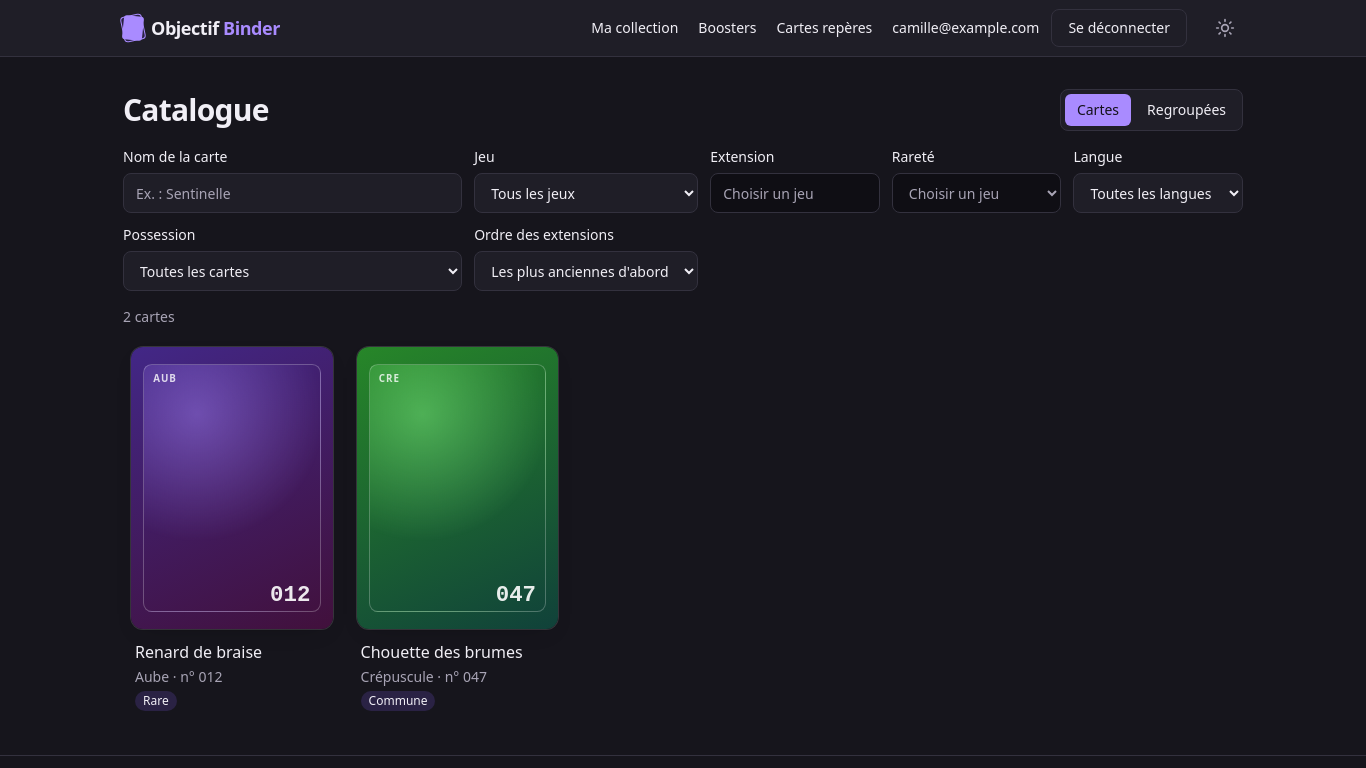
Test: AccountMenu › signs out through the API, then forgets the user and the token
Click the button "Se déconnecter" at [1119, 28], box top-left (1051, 9), bottom-right (1187, 47)
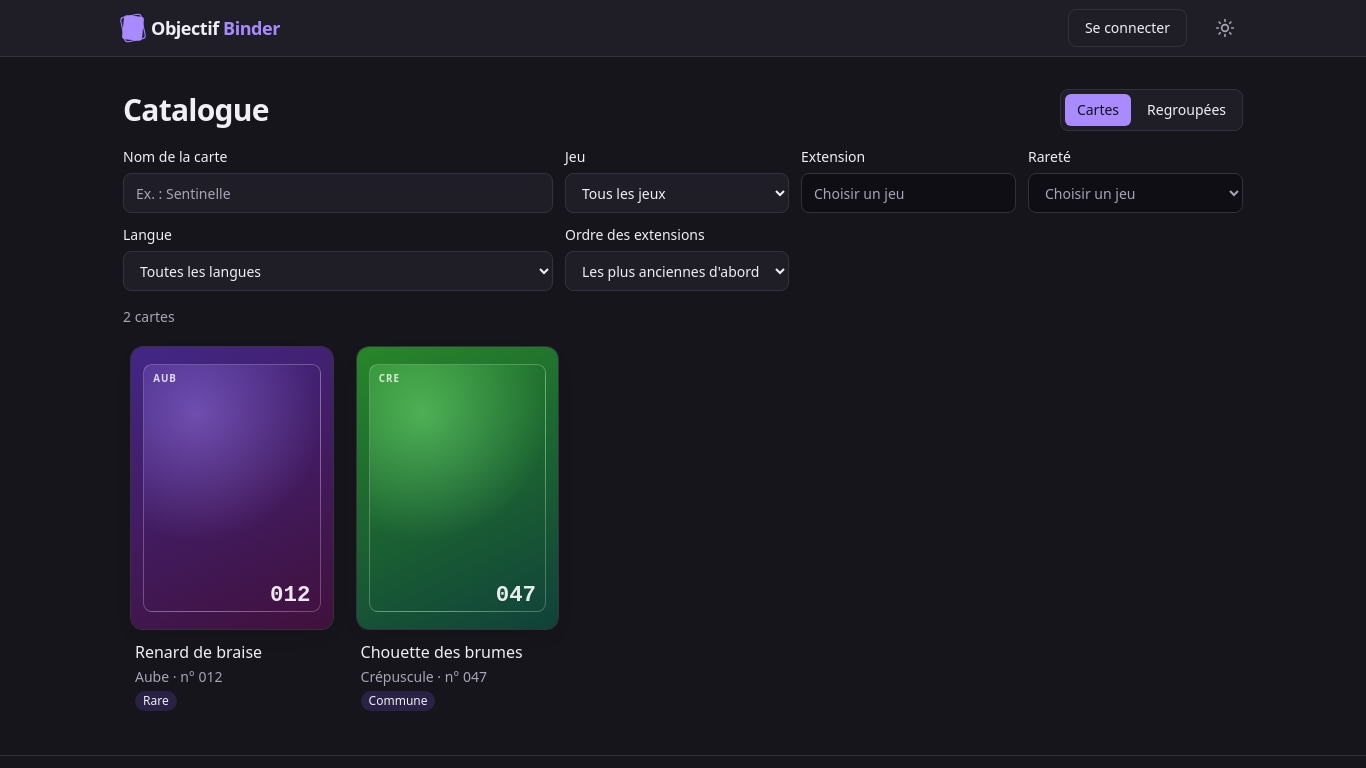
expect the link "camille@example.com" is gone: met
expect the button "Se déconnecter" is gone: met
